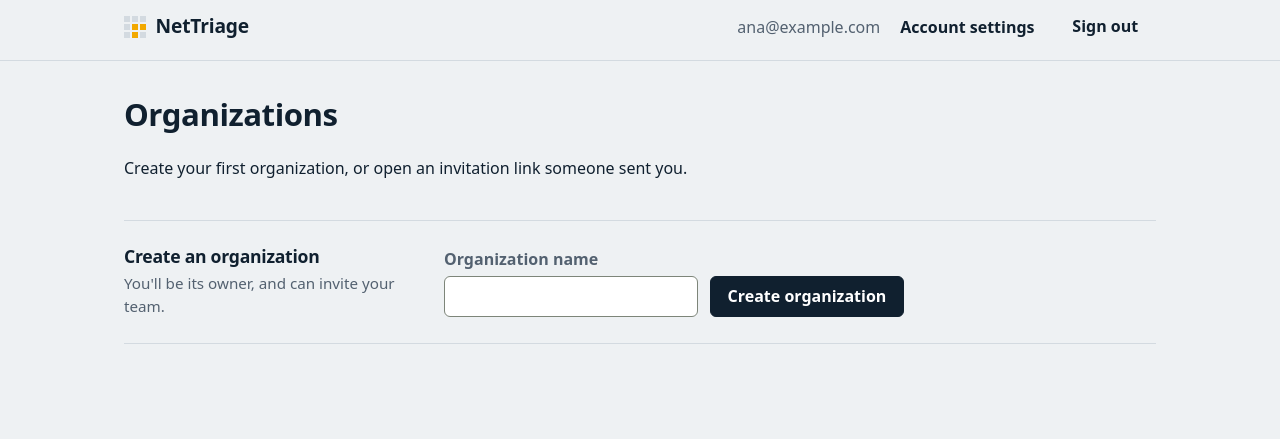
Test: a create the API refuses says why
Type "Fourth" into the field labelled "Organization name" at (571, 296), box [444,276,698,317]
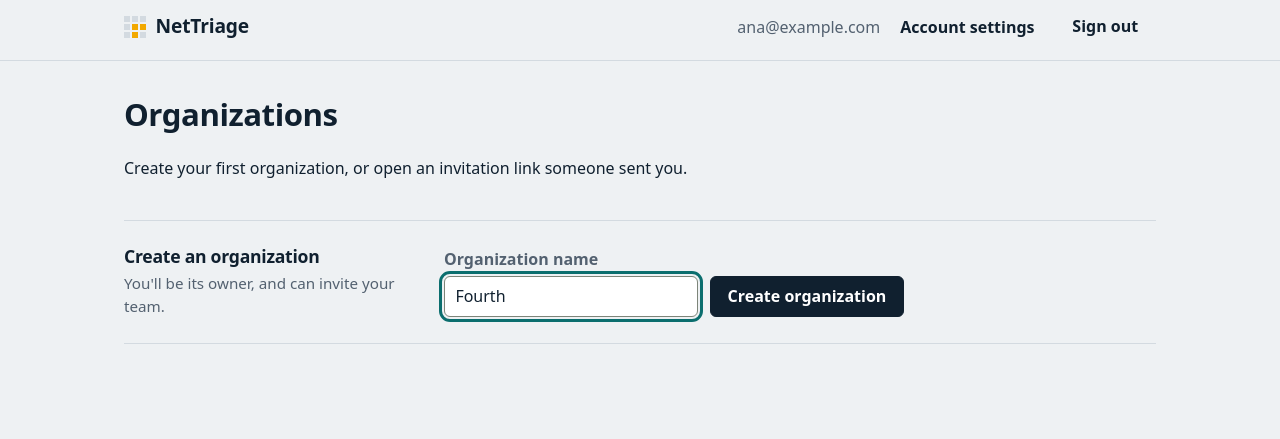
Click the button "Create organization" at (807, 296), box [710,276,904,317]
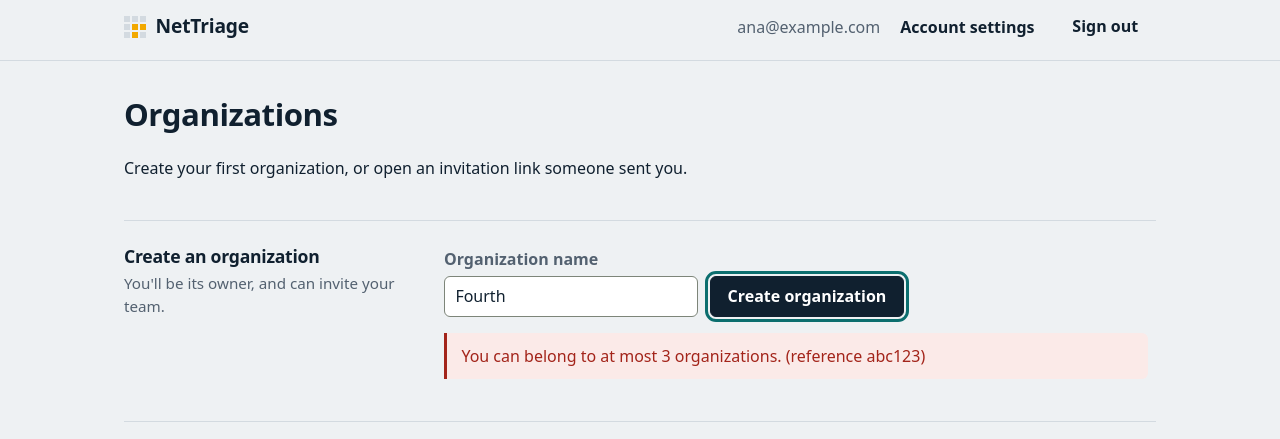
Now the message reads "You can belong to at most 3 organizations. (reference abc123)", box [461,345,925,367]
